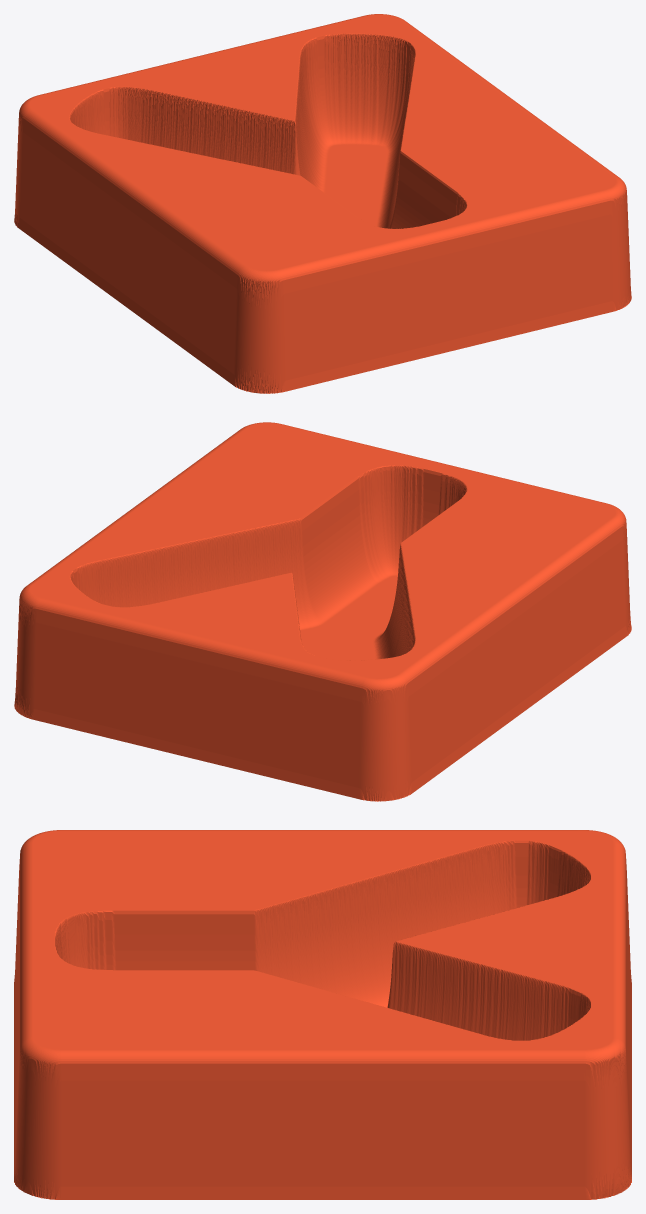
File: mold.glb
3 renders of one model, top to bottom at view 1: azimuth 30°, elevation 25°; view 2: azimuth 150°, elevation 25°; view 3: azimuth 270°, elevation 25°, orthographic. The views are drawn at different scales.
Parts seen in each view (by area): view 1: geometry_0; view 2: geometry_0; view 3: geometry_0.
Boxes of the visible parts, x1,y1,x2,y2 form: geometry_0: [14, 14, 631, 393]; geometry_0: [14, 422, 631, 801]; geometry_0: [14, 830, 631, 1199].
Bounding box in the file's own units: 0.1058 × 0.0299 × 0.1178.
